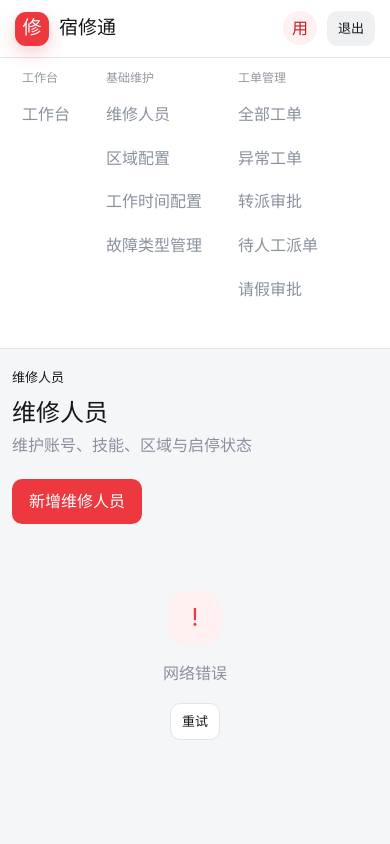
维修人员管理页 › 加载失败显示错误状态并可重试
This screenshot has width=390, height=844.
Click the button "重试": [195, 721] box 170,703 -> 220,740
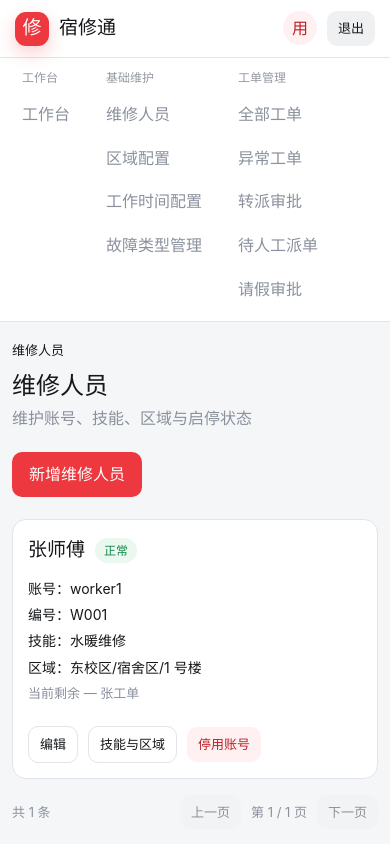
Now the text "张师傅" is shown, box 28,535 -> 85,566
